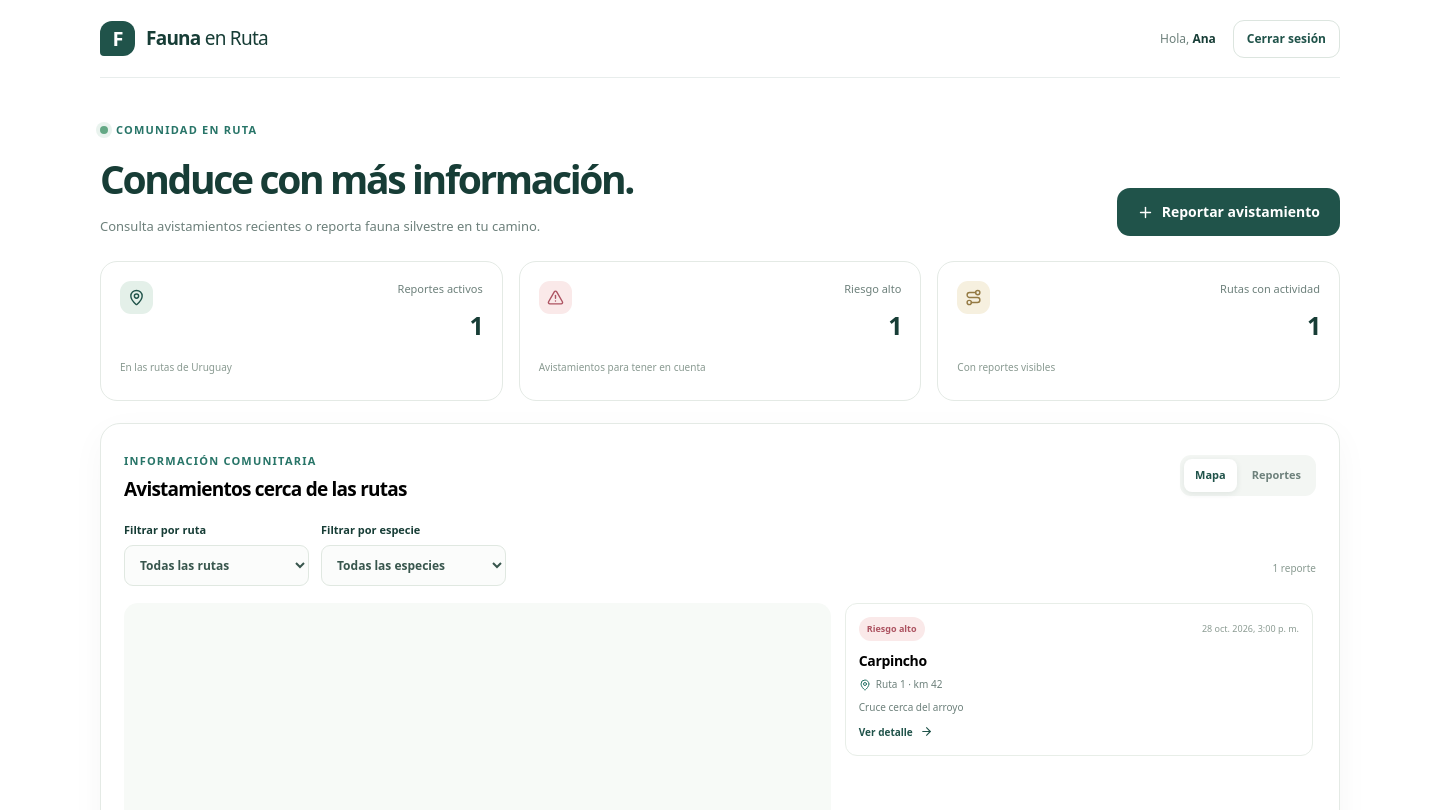
Scenario: panel de avistamientos › muestra la actividad y obtiene el detalle del reporte seleccionado
The width and height of the screenshot is (1440, 810).
Expected: the heading "Carpincho" is shown, [859,650,927,670]
Expected: the text "Cruce cerca del arroyo" is shown, [859,700,964,714]
Click the button "Ver detalle". click: [896, 732]
box: [859,725,933,740]
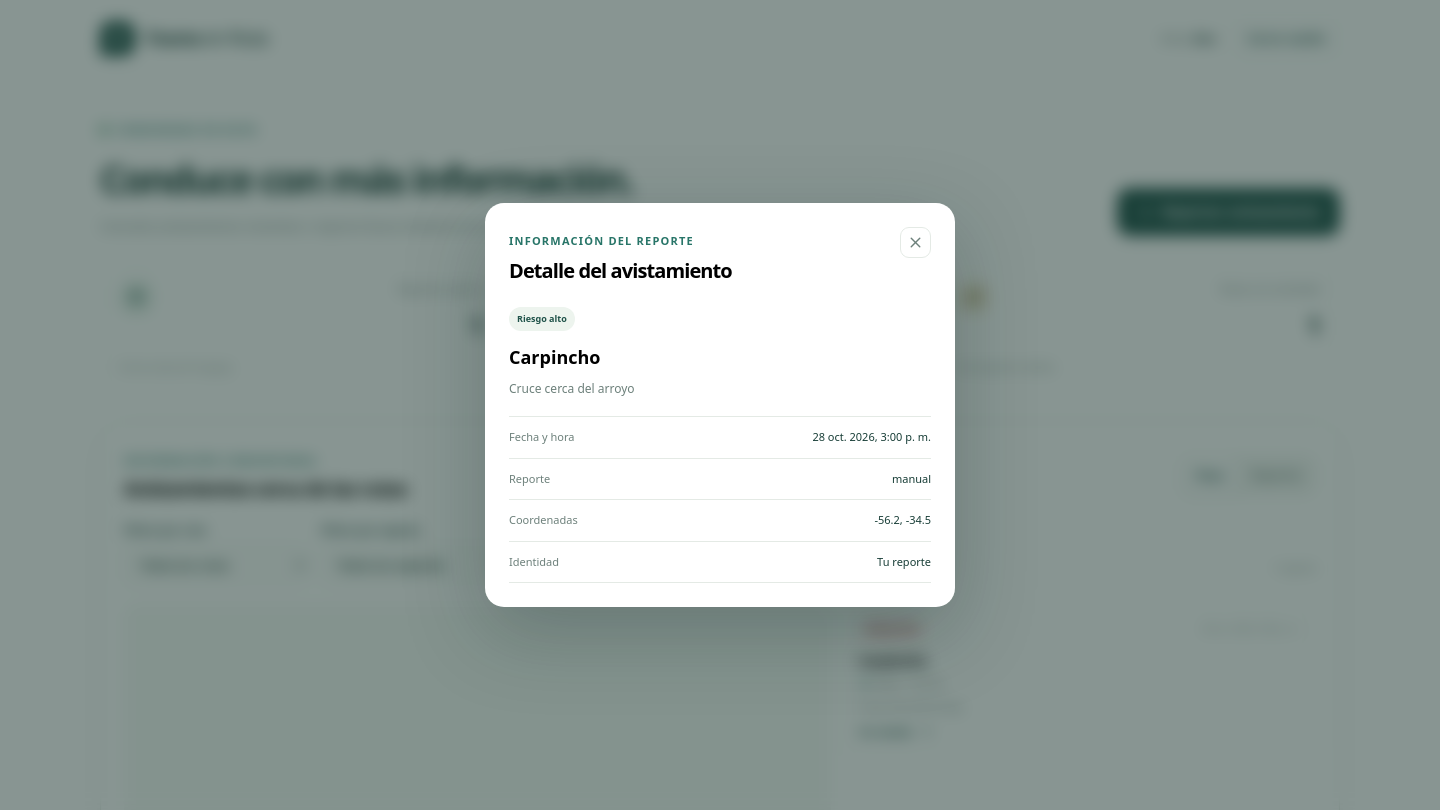
Expected: the heading "Detalle del avistamiento" is shown, [509,257,732,285]
Expected: the text "Tu reporte" is shown, [877,554,931,570]
